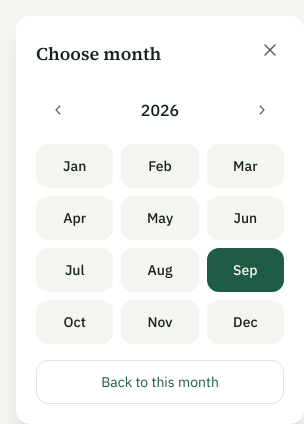
Scenario: MonthPicker › navigates to the previous/next year without changing the selected month
This screenshot has width=304, height=424.
(page scrolled)
Click the button named "Previous year".
click(58, 110)  # box [36, 88, 80, 132]
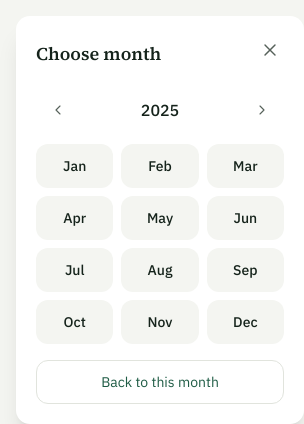
Check: the text "2025" is shown, box [141, 98, 179, 122]
Click the button named "Next year".
click(262, 110)  # box [240, 88, 284, 132]
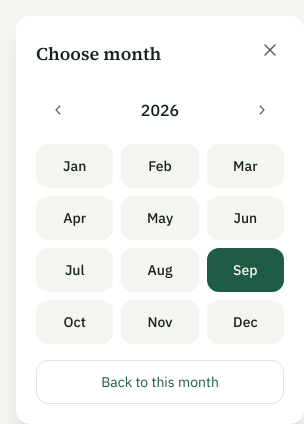
Click the button named "Next year".
click(262, 110)  # box [240, 88, 284, 132]
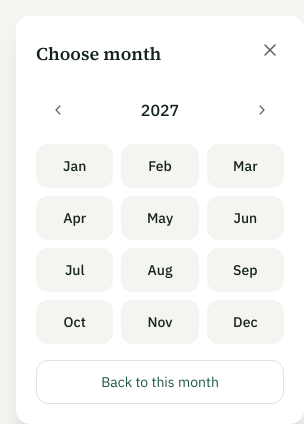
Check: the text "2027" is shown, box [141, 98, 179, 122]
